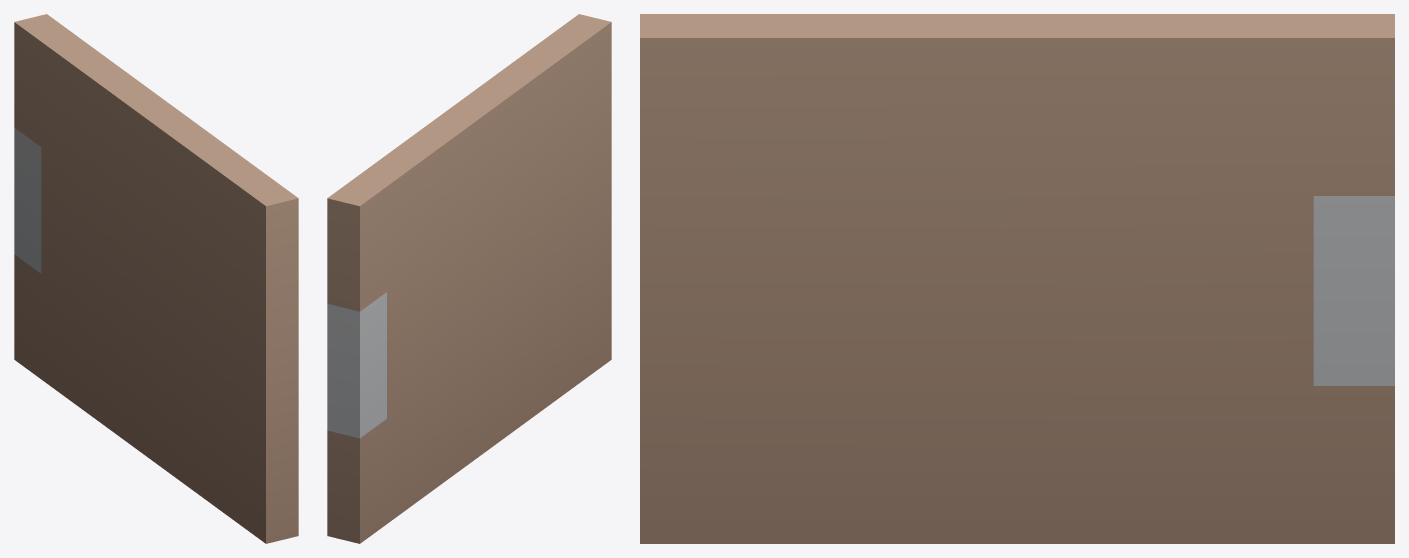
The model's file is (%no-merge) (%open-right) 5.glb.
The picture shows the model from 3 angles, left to right: view 1: azimuth 30°, elevation 25°; view 2: azimuth 150°, elevation 25°; view 3: azimuth 270°, elevation 25°; orthographic projection. The views are drawn at different scales.
Visible parts, largest first — view 1: (%no-merge) (%open-right) 5; view 2: (%no-merge) (%open-right) 5; view 3: (%no-merge) (%open-right) 5.
Part boxes in pixels (box(x1,y1,x2,y2)): (%no-merge) (%open-right) 5: box(14, 14, 298, 543); (%no-merge) (%open-right) 5: box(327, 14, 611, 543); (%no-merge) (%open-right) 5: box(640, 14, 1394, 543).
Size of the model in its own units: 0.0265 by 0.2619 by 0.354.
